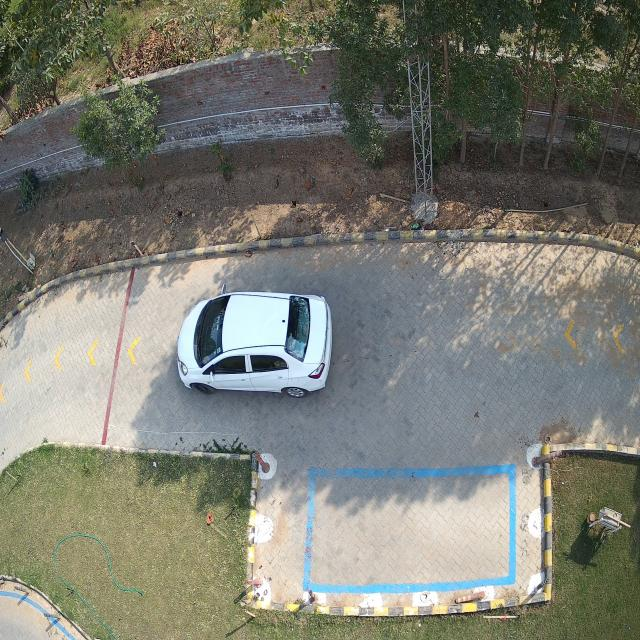car: (172, 287, 332, 397)
